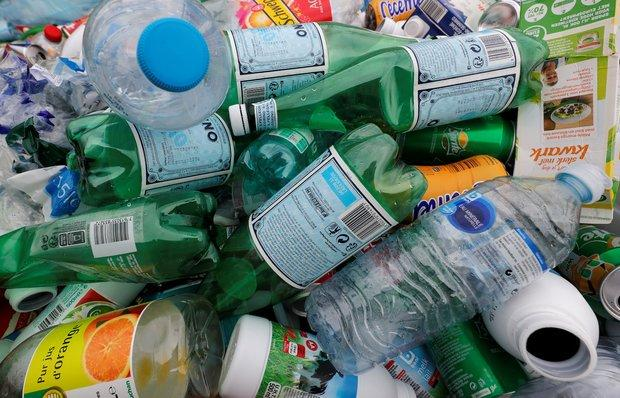Plastic: (287, 146, 603, 388), (259, 46, 567, 129), (73, 0, 244, 142), (0, 297, 239, 398), (0, 200, 217, 308)
